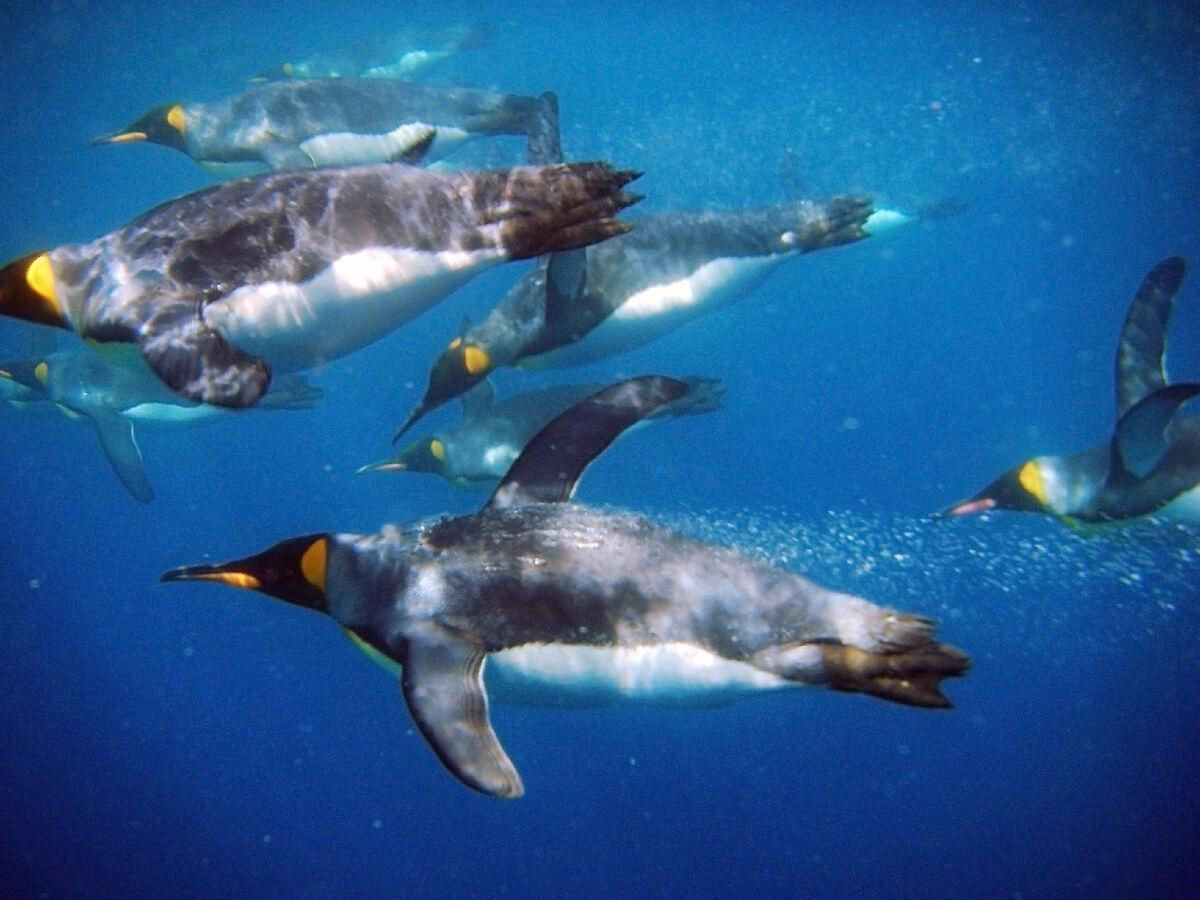Penguin: (162, 375, 968, 796), (0, 162, 639, 408), (394, 197, 911, 440), (940, 258, 1200, 531), (94, 80, 562, 174), (0, 349, 228, 501), (359, 380, 605, 486), (649, 377, 724, 415), (260, 375, 320, 410)
